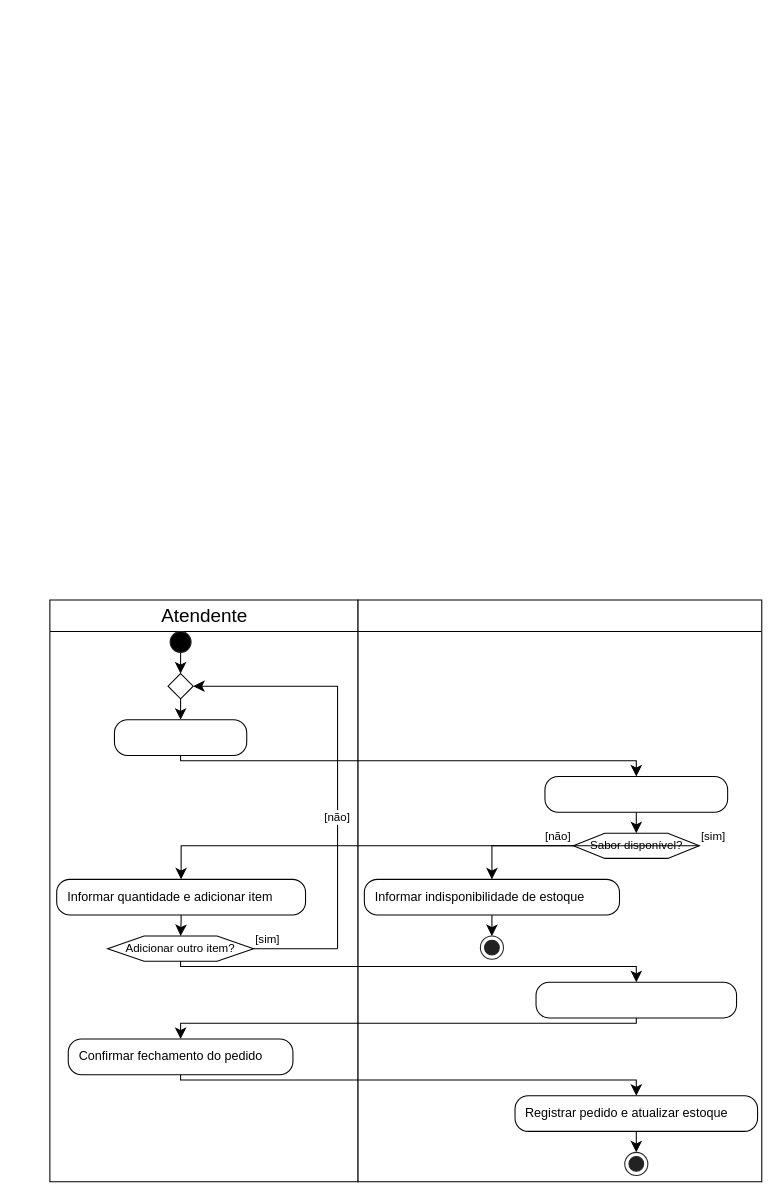
The diagram is 780 pixels wide and 1200 high, and some of its shapes have lost their labels. The shapes that lost their labels are listed below. From the top down, each one's box as (x1, y1, x2, y2) in pixels, then its label:
(113, 719, 247, 755): Identificar o sabor
(544, 775, 728, 812): Verificar estoque do sabor
(357, 599, 762, 1182): Sistema
(535, 981, 737, 1018): Calcular subtotal e valor total
